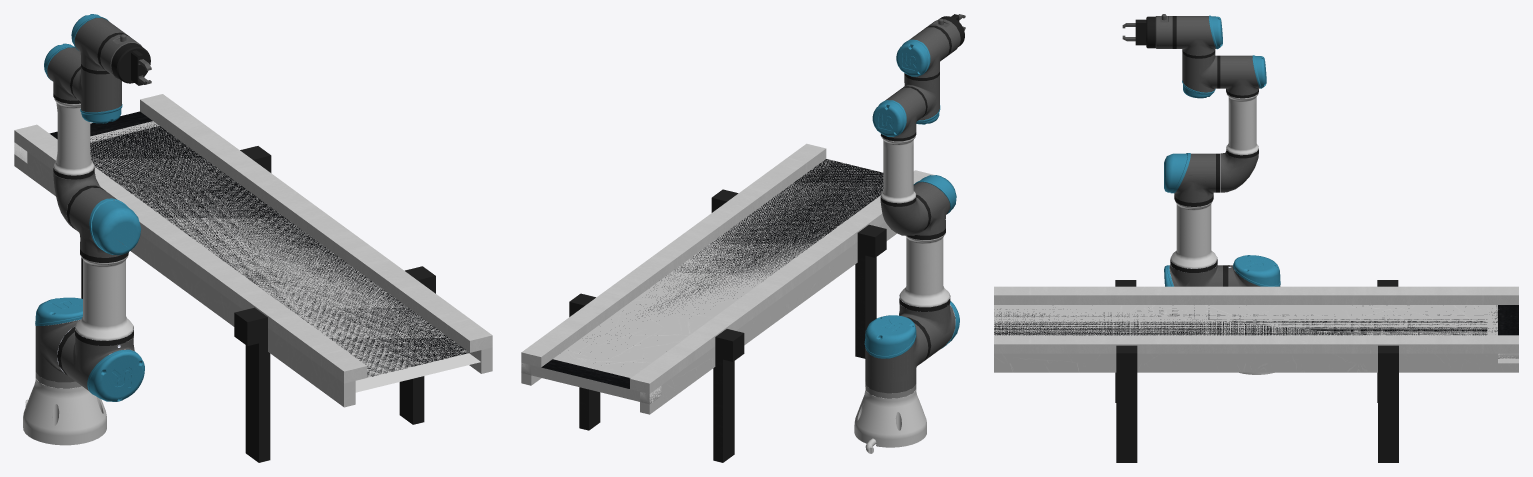
File: UR_Pick_and_Place_Station_v2.glb
The picture shows the model from 3 angles, left to right: view 1: azimuth 30°, elevation 25°; view 2: azimuth 150°, elevation 25°; view 3: azimuth 270°, elevation 25°; orthographic projection. The views are drawn at different scales.
Parts seen in each view (by area): view 1: color-6[5], color-6[2], URjoint2_Bodies, color-6[3], color-6[4], URjoint3_Bodies, URbase_Bodies, color-7[1], URjoint1_Bodies, URjoint4_Bodies, URjoint5_Bodies, color-7[2] (+4 smaller); view 2: color-6[5], color-6[2], color-6[3], color-6[4], URjoint2_Bodies, URjoint3_Bodies, URjoint1_Bodies, URbase_Bodies, color-7, color-7[1], color-6, URjoint5_Bodies (+3 smaller); view 3: color-6[5], color-6[4], color-6[3], color-6[2], URjoint2_Bodies, URjoint3_Bodies, color-7[2], color-7[3], URjoint5_Bodies, URjoint4_Bodies, URjoint1_Bodies, color-6 (+2 smaller).
Boxes of the visible parts, x1,y1,x2,y2 form: color-6[5]: (34,126,492,407); color-6[2]: (49,111,469,376); URjoint2_Bodies: (57,187,144,401); color-6[3]: (140,94,492,352); color-6[4]: (14,124,366,383); URjoint3_Bodies: (44,43,105,228); URbase_Bodies: (23,378,106,445); color-7[1]: (234,307,270,462); URjoint1_Bodies: (35,297,82,388); URjoint4_Bodies: (70,66,122,123); URjoint5_Bodies: (71,14,126,74); color-7[2]: (399,266,435,424); color-6[5]: (559,159,896,401); color-6[2]: (541,159,883,388); color-6[3]: (521,143,826,367); color-6[4]: (630,170,934,393); URjoint2_Bodies: (896,175,959,361); URjoint3_Bodies: (872,87,931,235); URjoint1_Bodies: (864,315,928,398); URbase_Bodies: (854,387,926,453); color-7: (713,329,744,462); color-7[1]: (855,224,886,358); color-6: (521,355,678,414); URjoint5_Bodies: (896,27,949,80); color-6[5]: (994,305,1487,372); color-6[4]: (994,286,1518,304); color-6[3]: (994,335,1518,353); color-6[2]: (994,305,1518,335); URjoint2_Bodies: (1164,153,1228,286); URjoint3_Bodies: (1216,55,1266,192); color-7[2]: (1116,345,1137,462); color-7[3]: (1378,345,1398,462); URjoint5_Bodies: (1176,15,1222,58); URjoint4_Bodies: (1182,52,1220,98); URjoint1_Bodies: (1228,255,1280,286); color-6: (1487,305,1518,372).
Size of the model in its own units: 0.5597 by 0.7308 by 1.
11 materials, 9 textured.
